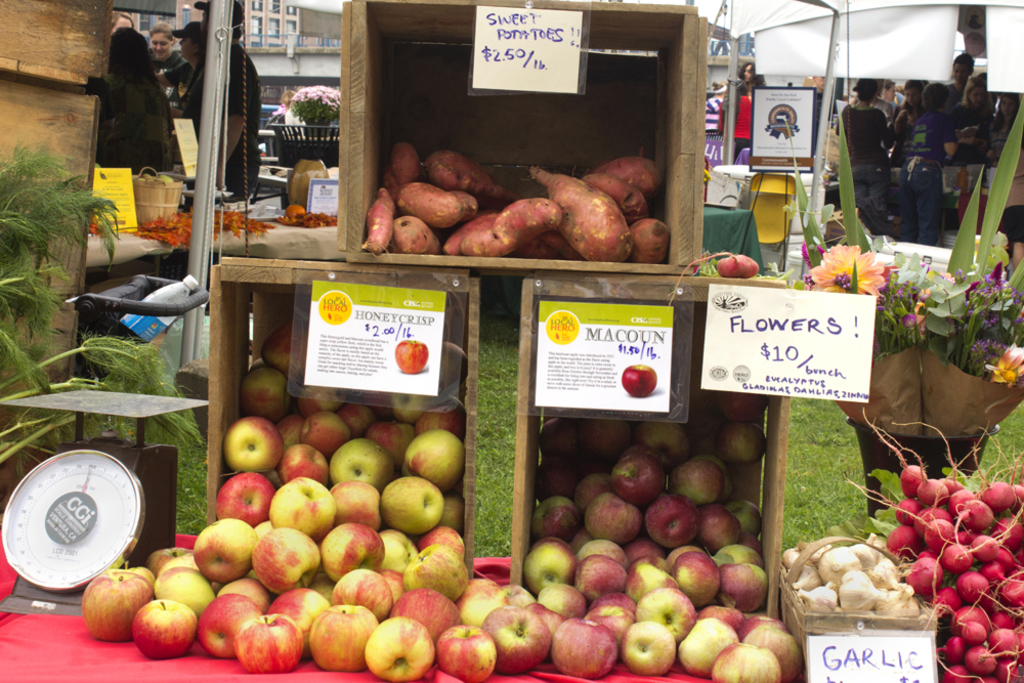Apple: (76, 324, 805, 681), (115, 593, 192, 661), (393, 338, 425, 374), (622, 365, 659, 396)
